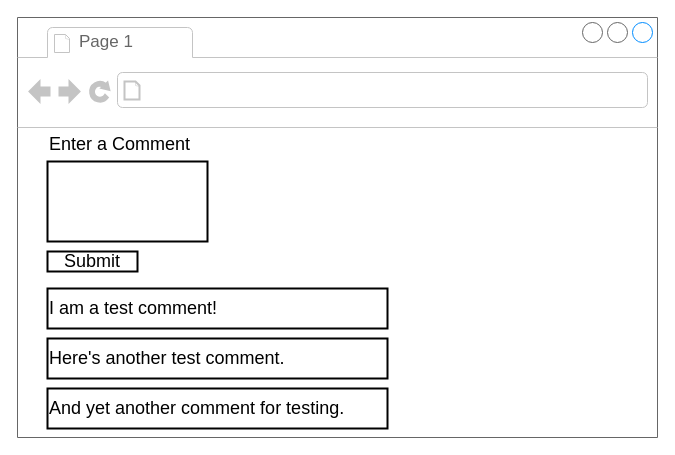
Image size: 675x455. Some labels were removed from this diagram. The shapes that lost their labels are listed below. From the top down, each one's box as (x1, y1, x2, y2) in pixels, then its label:
(146, 76, 398, 104): https://www.draw.io
(46, 160, 208, 242): Here is my comment
